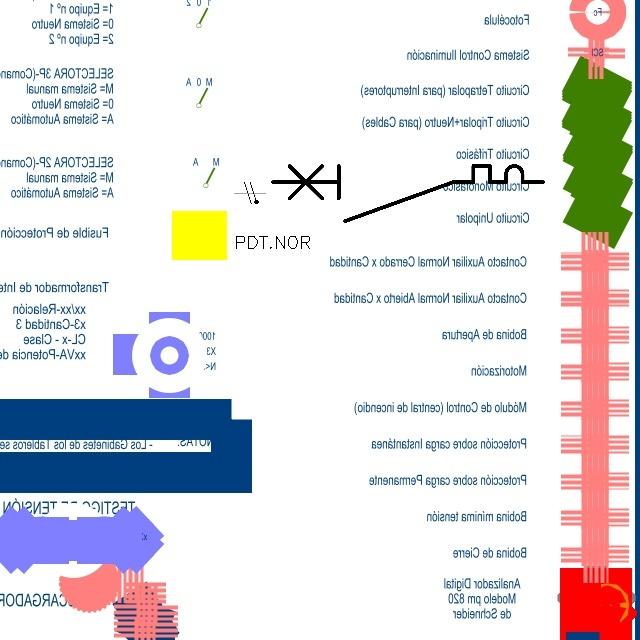interruptor_termomagnetico: (266, 159, 550, 228)
